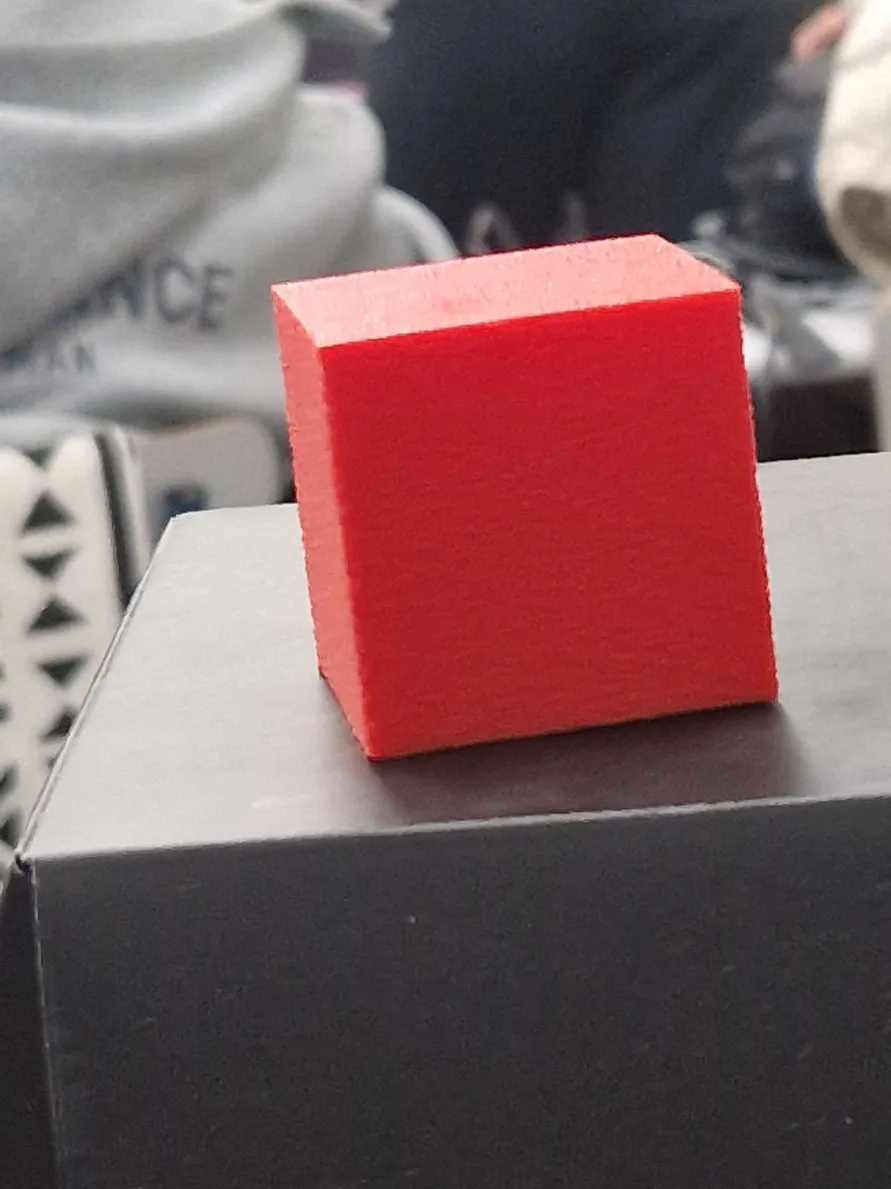red_cube: (271, 230, 783, 762)
